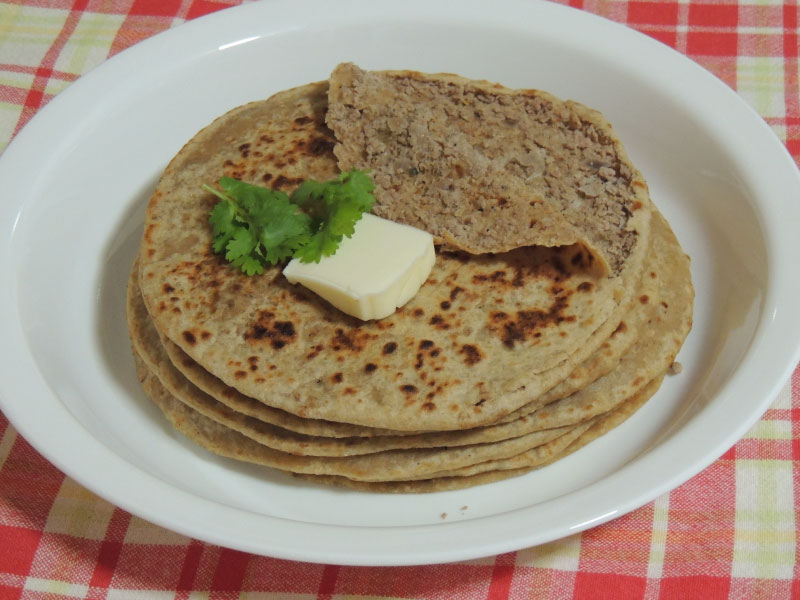aloo_paratha: (124, 69, 692, 495)
